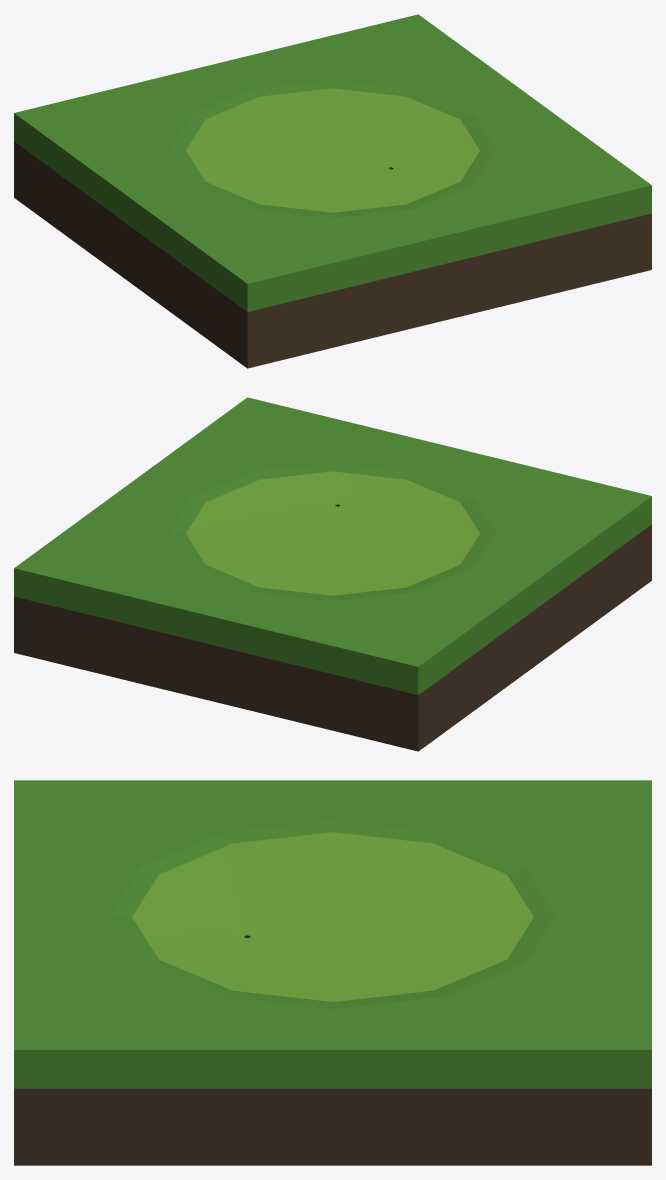
The model's file is tiles_tile-golf-green-circle.fbx.
The picture shows the model from 3 angles, top to bottom: view 1: azimuth 30°, elevation 25°; view 2: azimuth 150°, elevation 25°; view 3: azimuth 270°, elevation 25°; orthographic projection. The views are drawn at different scales.
Parts seen in each view (by area): view 1: tiles_tile_golf_green_circle; view 2: tiles_tile_golf_green_circle; view 3: tiles_tile_golf_green_circle.
Part boxes in pixels (x1,y1,x2,y2): tiles_tile_golf_green_circle: [14, 14, 651, 368]; tiles_tile_golf_green_circle: [14, 397, 651, 751]; tiles_tile_golf_green_circle: [14, 780, 651, 1165].
Bounding box in the file's own units: 200 × 40 × 200.
